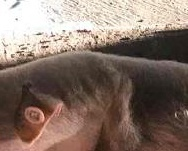text: (16, 98, 57, 131)
